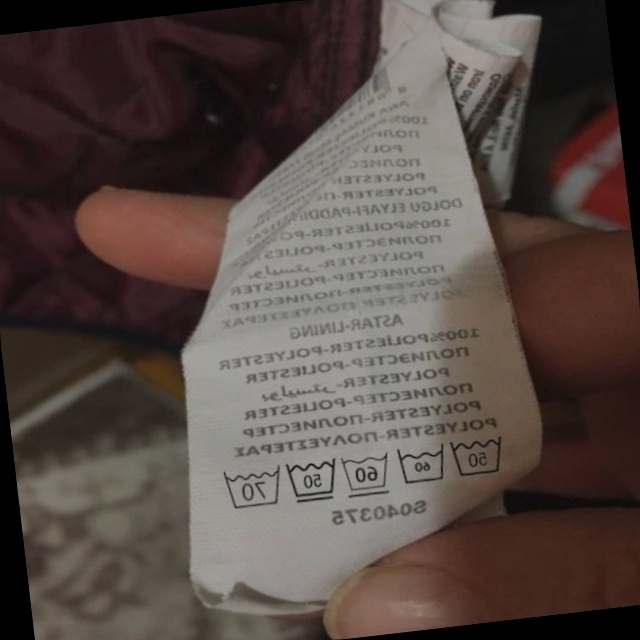50C: (443, 425, 513, 485), (279, 451, 343, 509)
60C: (334, 445, 395, 502), (390, 437, 451, 492)
70C: (214, 460, 285, 515)
